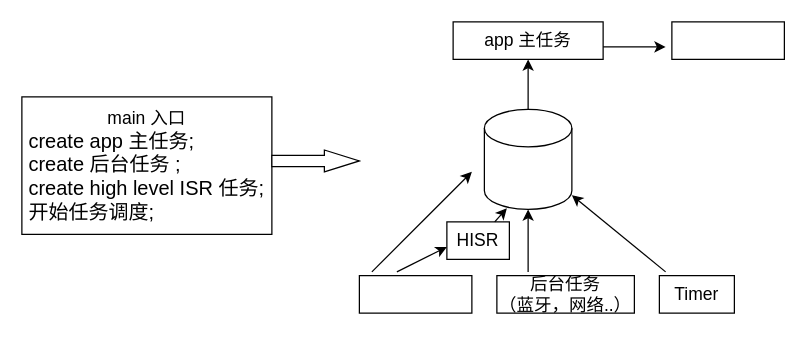
This 806x338 diagram has some shape labels left out. Here are the shapes that lost their labels. From the top down, the box of each, then its label:
(671, 21, 784, 59): 事件分发处理
(483, 108, 572, 209): 全局事件队列
(358, 274, 472, 313): 外部事件 （设备中断）
